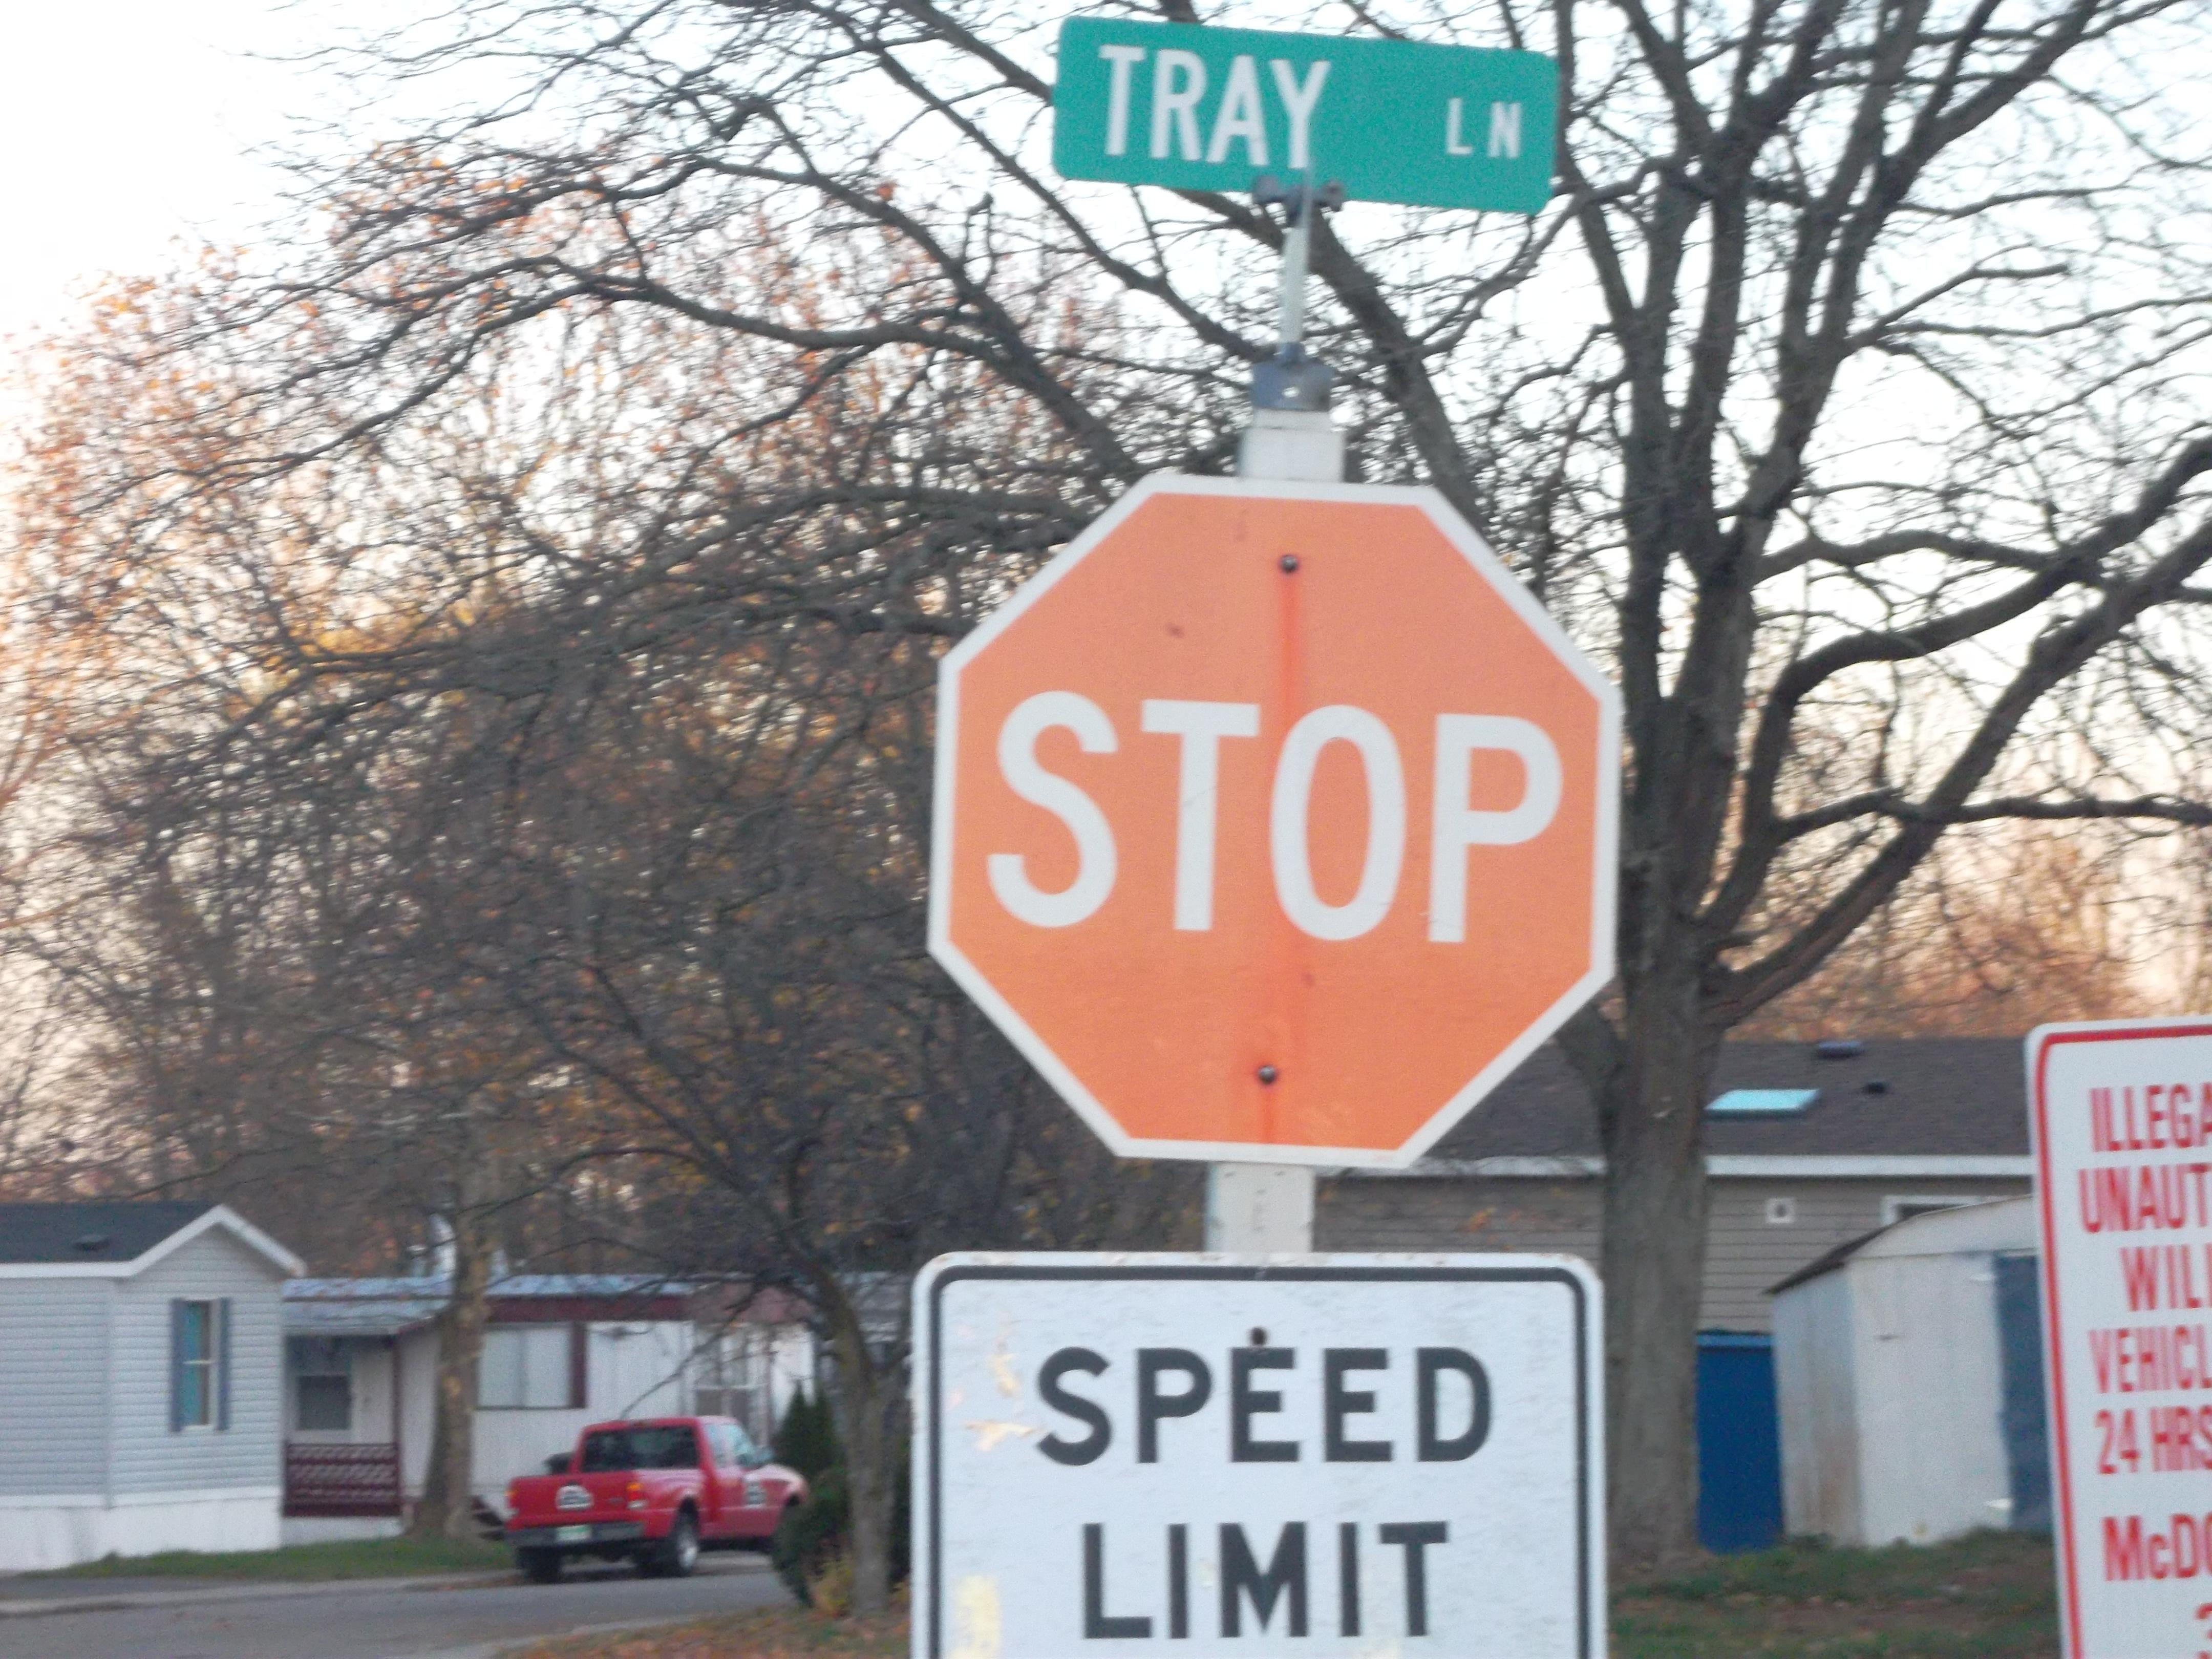regulatory: (894, 1251, 1646, 1659)
stop: (913, 444, 1629, 1206)
